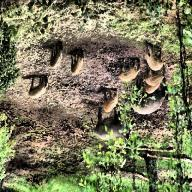boar: (133, 90, 173, 127), (111, 53, 143, 86), (27, 77, 57, 110), (95, 117, 125, 145), (69, 45, 93, 76), (96, 95, 120, 121), (48, 38, 66, 72), (146, 66, 168, 90), (149, 43, 166, 69), (148, 81, 167, 95)
